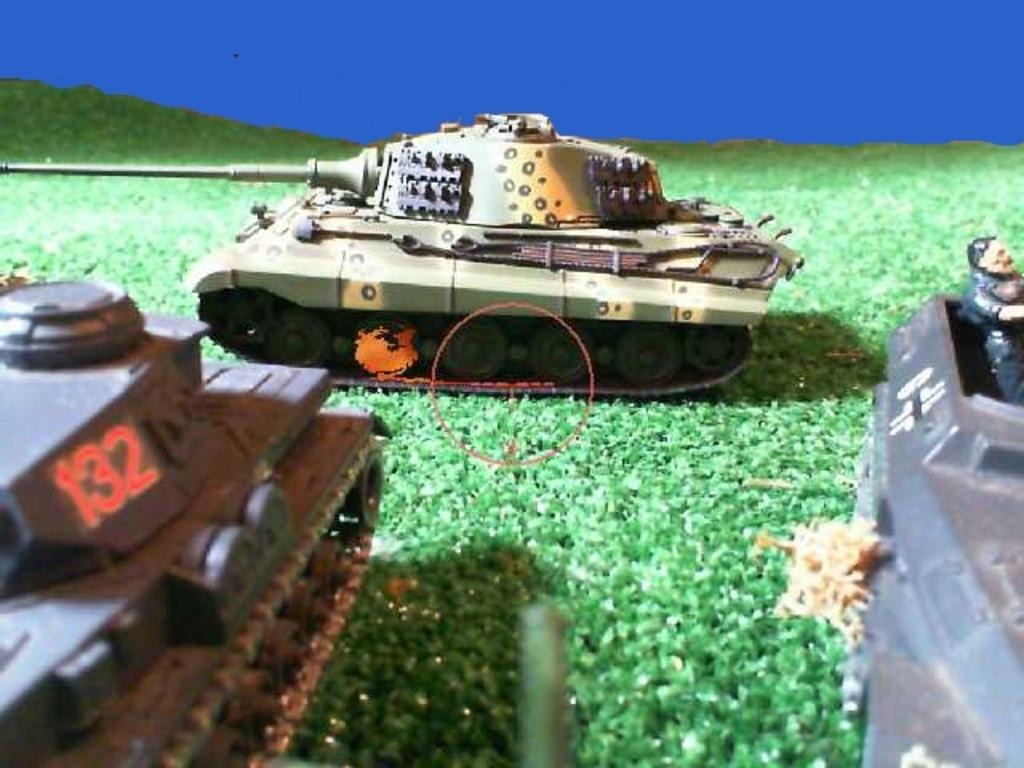Tank: (0, 110, 806, 392), (0, 267, 395, 766), (846, 293, 1022, 766)
